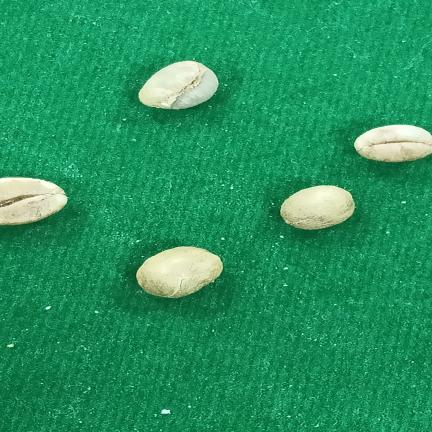good: (136, 246, 223, 298), (138, 61, 218, 110), (280, 185, 355, 230), (0, 177, 67, 225), (354, 125, 432, 162)
